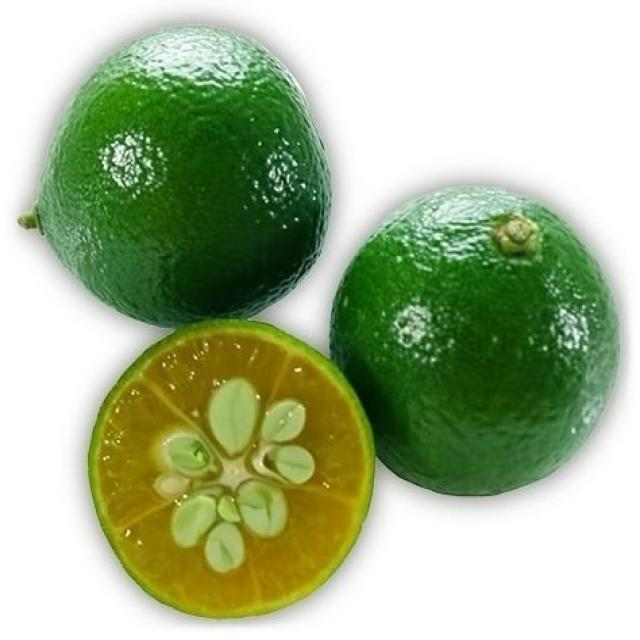heathy: (316, 178, 629, 513), (31, 21, 334, 327)
